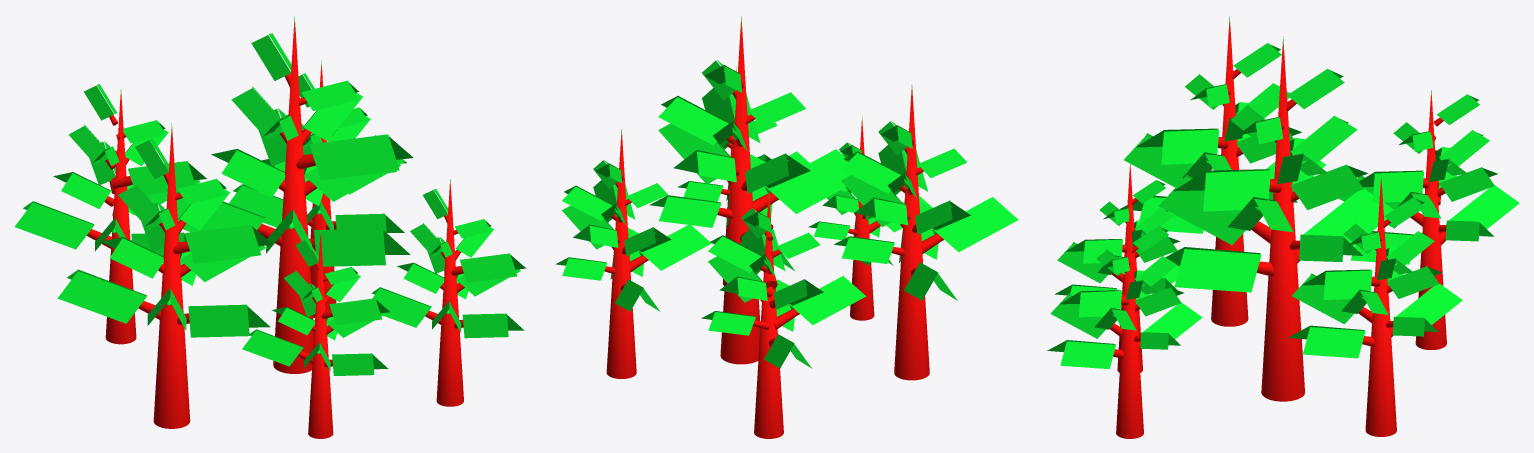
Rendered from tree.fbx.
3 views of the same model, side by side, from view 1: azimuth 30°, elevation 25°; view 2: azimuth 150°, elevation 25°; view 3: azimuth 270°, elevation 25° (orthographic). The views are drawn at different scales.
Parts seen in each view (by area): view 1: Pien.007, Pien.003, Pien.009, Plane.007, Pien.008, Plane.021, Plane.102, Pien.005, Plane.085, Plane.076, Plane.099, Plane.018 (+30 smaller); view 2: Pien.007, Pien.003, Pien.001, Pien.005, Plane.019, Plane.097, Plane.071, Plane.012, Pien.008, Plane.045, Plane.026, Plane.090 (+28 smaller); view 3: Pien.003, Pien.001, Pien.009, Plane.022, Pien.007, Pien.005, Plane.008, Plane.020, Plane.023, Plane.015, Plane.086, Plane.048 (+40 smaller).
Boxes of the visible parts, box(x1,y1,x2,y2) form: Pien.007: box(153, 123, 190, 428); Pien.003: box(273, 16, 314, 373); Pien.009: box(436, 179, 463, 406); Plane.007: box(309, 134, 399, 180); Pien.008: box(308, 230, 333, 438); Plane.021: box(314, 228, 385, 266); Plane.102: box(57, 271, 146, 323); Pien.005: box(105, 89, 136, 344); Plane.085: box(184, 224, 261, 263); Plane.076: box(14, 202, 94, 249); Plane.099: box(188, 304, 249, 337); Plane.018: box(221, 150, 285, 197); Pien.007: box(894, 84, 929, 380); Pien.003: box(720, 16, 760, 364); Pien.001: box(606, 129, 636, 378); Pien.005: box(754, 191, 783, 438); Plane.019: box(766, 149, 850, 213); Plane.097: box(933, 197, 1018, 252); Plane.071: box(790, 276, 866, 324); Plane.012: box(658, 97, 728, 145); Pien.008: box(850, 115, 874, 320); Plane.045: box(639, 225, 711, 270); Plane.026: box(659, 196, 721, 227); Plane.090: box(841, 152, 901, 193); Pien.003: box(1261, 36, 1304, 401); Pien.001: box(1365, 174, 1396, 436); Pien.009: box(1116, 206, 1143, 438); Plane.022: box(1174, 249, 1261, 292); Pien.007: box(1211, 16, 1248, 326); Pien.005: box(1415, 90, 1446, 349); Plane.008: box(1203, 170, 1270, 211); Plane.020: box(1159, 176, 1245, 244); Plane.023: box(1303, 188, 1393, 245); Plane.015: box(1291, 164, 1363, 209); Plane.086: box(1161, 129, 1219, 164); Plane.048: box(1303, 327, 1365, 358).
Bounding box in the file's own units: 1958 × 1779 × 2120.
